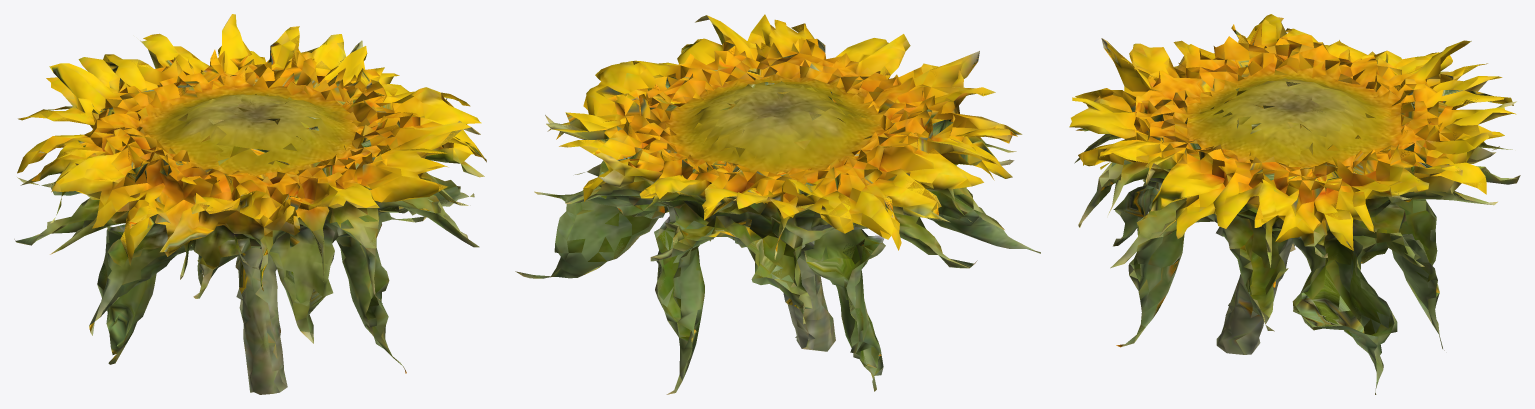
3 renders of one model, left to right at view 1: azimuth 30°, elevation 25°; view 2: azimuth 150°, elevation 25°; view 3: azimuth 270°, elevation 25°, orthographic.
Visible parts, largest first — view 1: 569a71cc; view 2: 569a71cc; view 3: 569a71cc.
Part boxes in pixels (x1=…): 569a71cc: x1=14, y1=14, x2=486, y2=394; 569a71cc: x1=515, y1=14, x2=1040, y2=394; 569a71cc: x1=1069, y1=14, x2=1520, y2=394.
Bounding box in the file's own units: 0.1709 × 0.0999 × 0.1529.
Materials: 1 (1 with a texture image).
